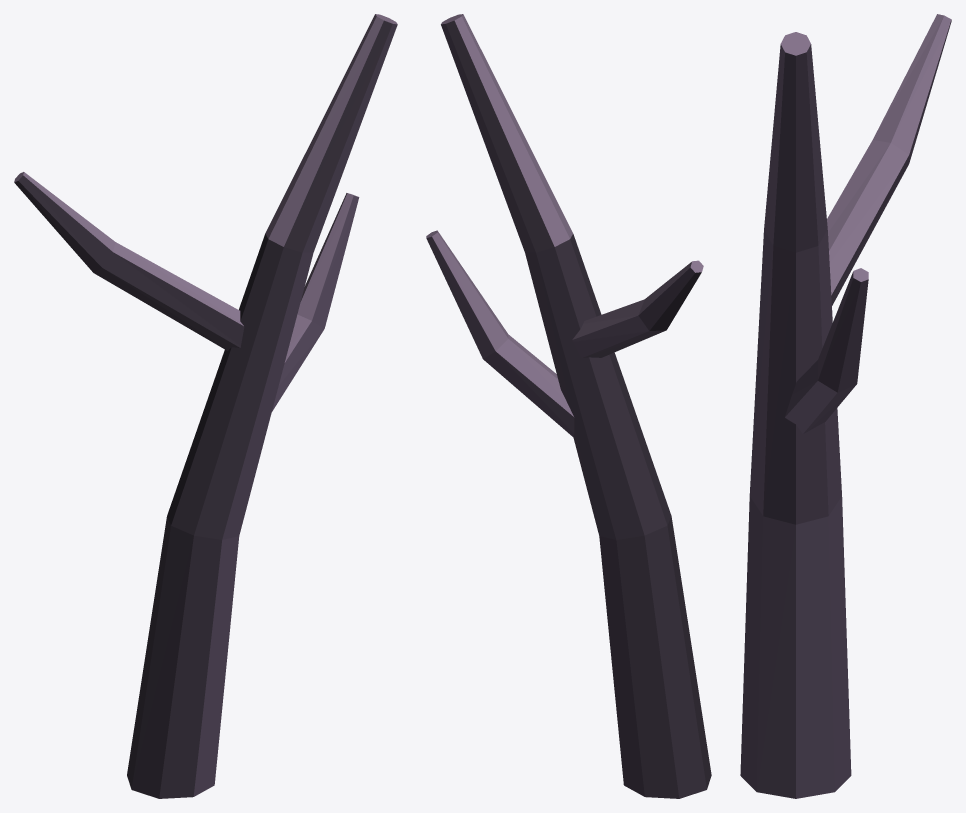
File: TW_TREE_DEAD_LEAN_A_LOD0.glb
The picture shows the model from 3 angles, left to right: view 1: azimuth 30°, elevation 25°; view 2: azimuth 150°, elevation 25°; view 3: azimuth 270°, elevation 25°; orthographic projection. The views are drawn at different scales.
Visible parts, largest first — view 1: TW_TREE_DEAD_LEAN_A_LOD0; view 2: TW_TREE_DEAD_LEAN_A_LOD0; view 3: TW_TREE_DEAD_LEAN_A_LOD0.
Part boxes in pixels (x1=…): TW_TREE_DEAD_LEAN_A_LOD0: x1=14, y1=14, x2=397, y2=798; TW_TREE_DEAD_LEAN_A_LOD0: x1=426, y1=14, x2=711, y2=798; TW_TREE_DEAD_LEAN_A_LOD0: x1=740, y1=14, x2=951, y2=798.
Bounding box in the file's own units: 1.26 × 2.69 × 0.5938.
1 material, 1 textured.
